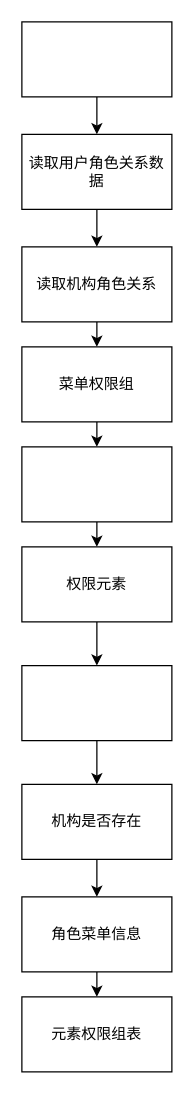
Some shapes in this 194 by 1094 pixel diagram are drawn without their labels. Each missing label, with the centre of its shape:
"权限菜单" goes at (x=96, y=484).
"终端信息是否存在" goes at (x=96, y=702).
"读取角色权限" goes at (x=96, y=59).
